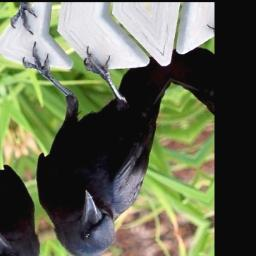Crow: (0, 5, 212, 256)
